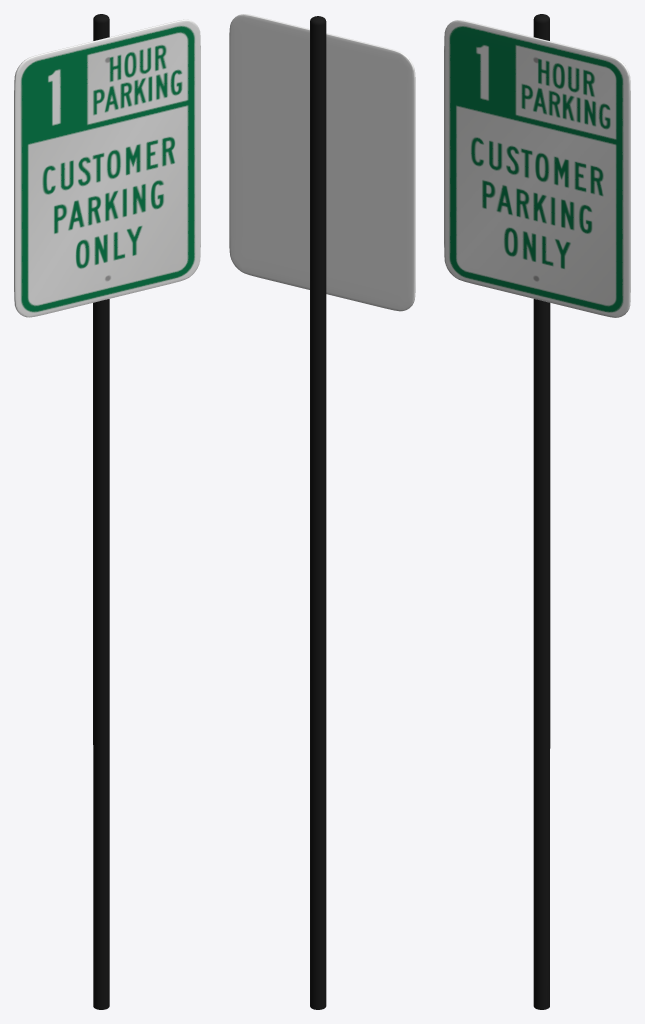
File: parkingsign.fbx
The picture shows the model from 3 angles, left to right: view 1: azimuth 30°, elevation 25°; view 2: azimuth 150°, elevation 25°; view 3: azimuth 330°, elevation 25°; orthographic projection.
Parts seen in each view (by area): view 1: parkingsign_merged_mesh_result; view 2: parkingsign_merged_mesh_result; view 3: parkingsign_merged_mesh_result.
Part boxes in pixels (x1=…): parkingsign_merged_mesh_result: x1=14, y1=14, x2=200, y2=1009; parkingsign_merged_mesh_result: x1=229, y1=14, x2=415, y2=1009; parkingsign_merged_mesh_result: x1=444, y1=14, x2=630, y2=1009.
Bounding box in the file's own units: 36.98 × 188 × 3.51.
Materials: 2 (2 with a texture image).
